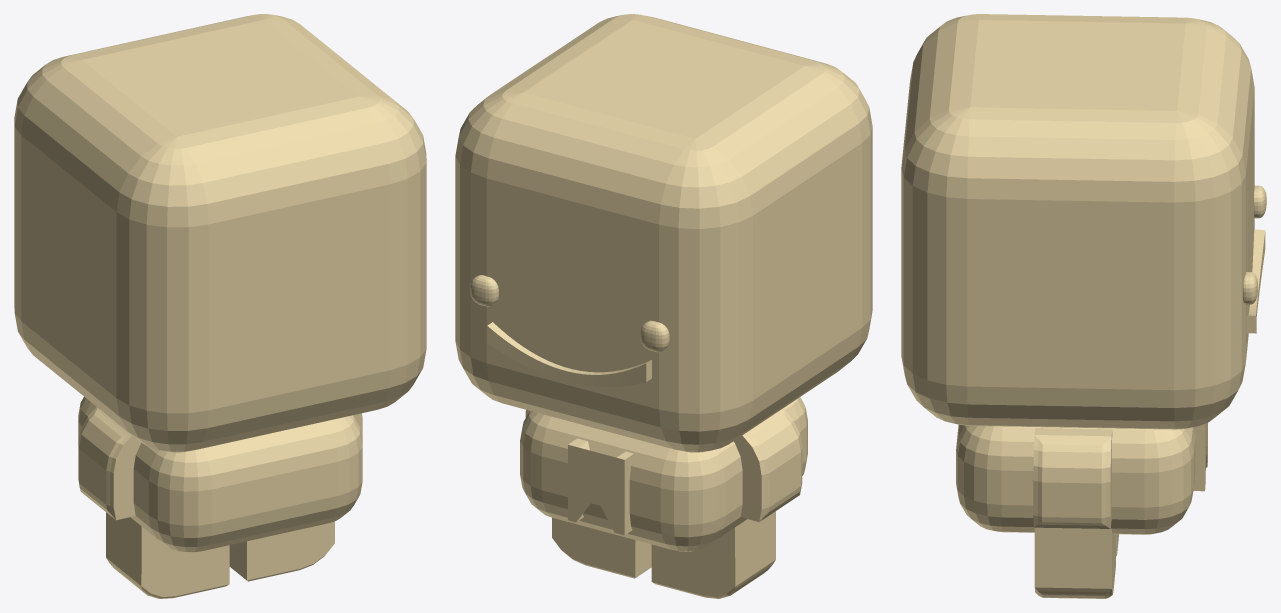
The model's file is avatar2_rotated_Y180.glb.
3 views of the same model, side by side, from view 1: azimuth 30°, elevation 25°; view 2: azimuth 150°, elevation 25°; view 3: azimuth 270°, elevation 25° (orthographic).
Visible parts, largest first — view 1: world; view 2: world; view 3: world.
Boxes of the visible parts, x1,y1,x2,y2 form: world: (14,14,426,598); world: (455,14,872,598); world: (901,14,1266,598).
Bounding box in the file's own units: 20.48 × 31.9 × 21.18.
